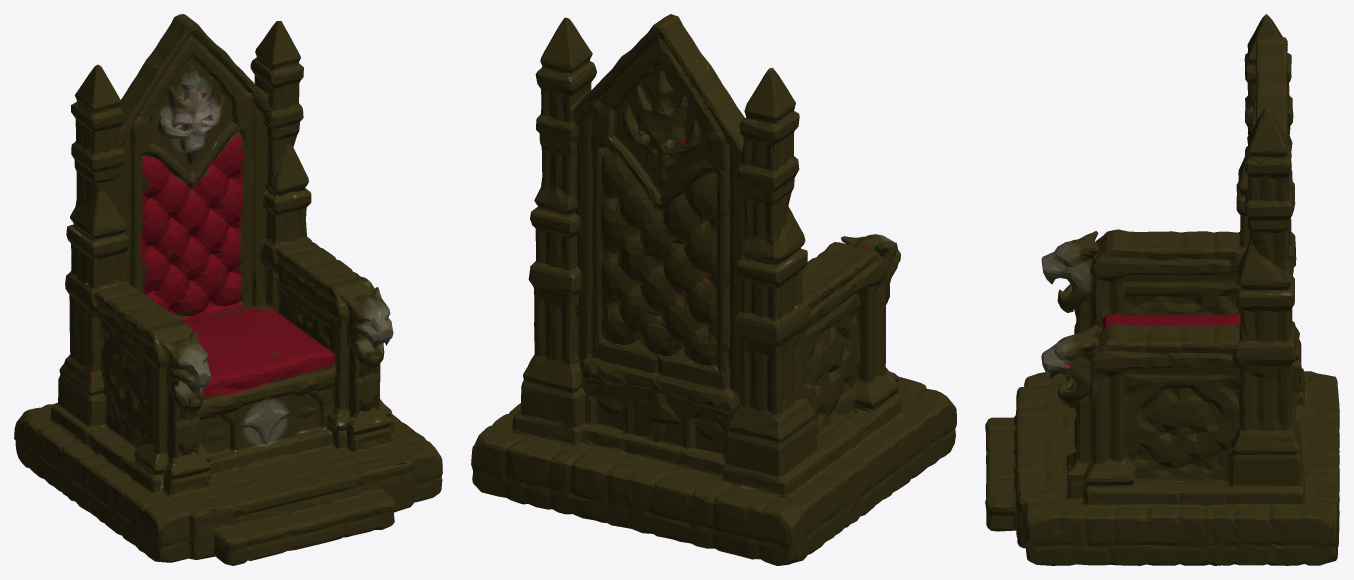
Rendered from trono.glb.
3 views of the same model, side by side, from view 1: azimuth 30°, elevation 25°; view 2: azimuth 150°, elevation 25°; view 3: azimuth 270°, elevation 25° (orthographic). The views are drawn at different scales.
Parts seen in each view (by area): view 1: tmptjuo6a00.ply; view 2: tmptjuo6a00.ply; view 3: tmptjuo6a00.ply.
Boxes of the visible parts, box(x1,y1,x2,y2) form: tmptjuo6a00.ply: box(14, 14, 442, 565); tmptjuo6a00.ply: box(471, 14, 956, 565); tmptjuo6a00.ply: box(985, 14, 1339, 565).
Size of the model in its own units: 1.36 by 1.96 by 1.38.
Materials: 1 (1 with a texture image).
